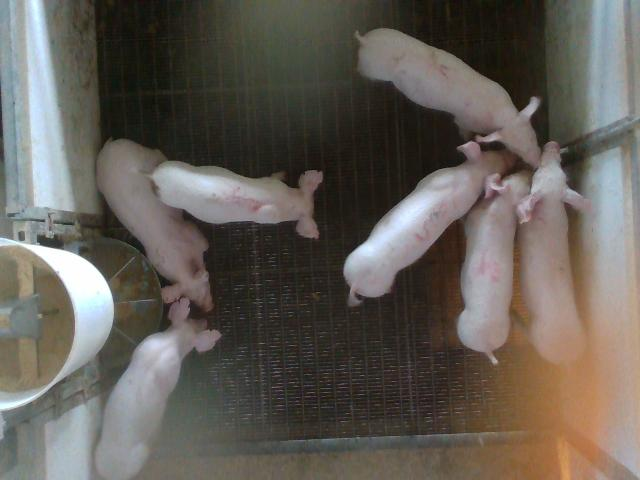pig-3: (344, 141, 516, 306)
pig-4: (458, 170, 531, 364)
pig-5: (151, 161, 322, 238)
